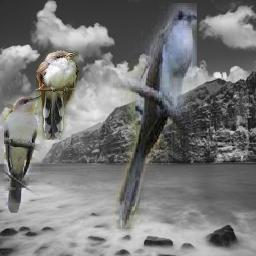Cuckoo: (113, 3, 197, 229), (4, 95, 42, 213), (37, 50, 80, 140)
